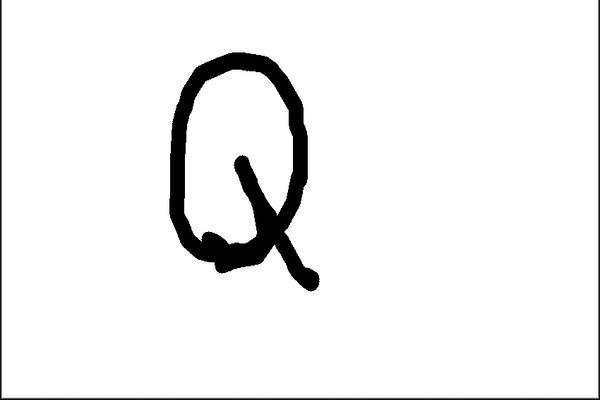Q: (155, 48, 331, 303)
